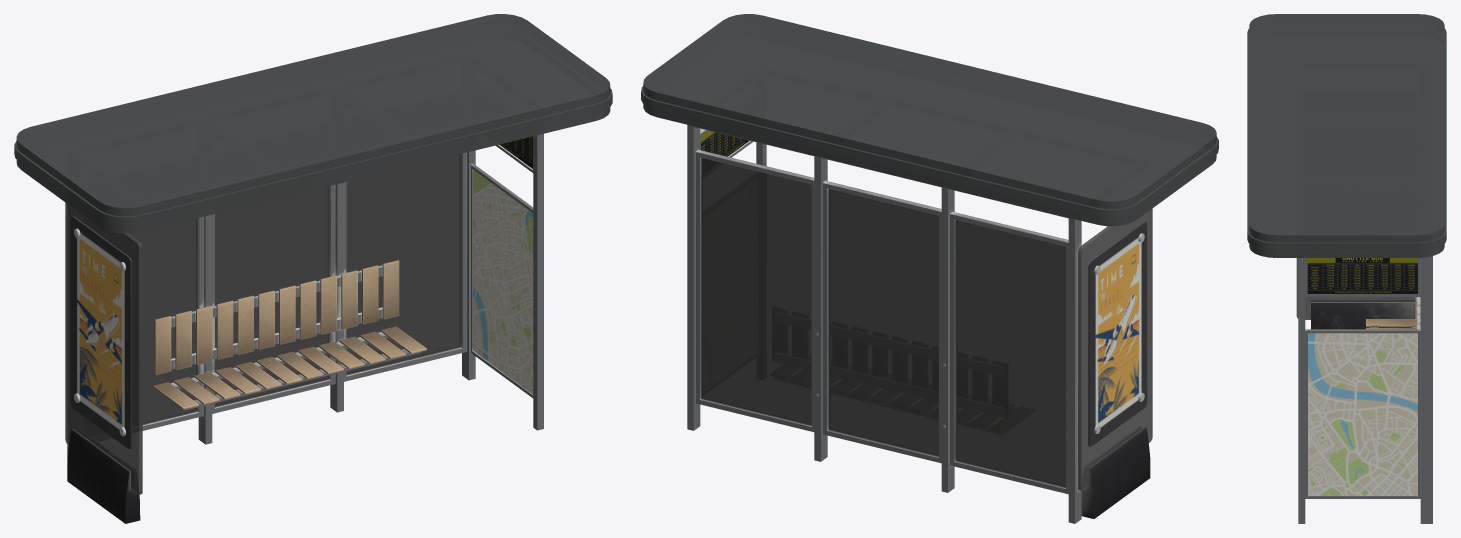
3 renders of one model, left to right at view 1: azimuth 30°, elevation 25°; view 2: azimuth 150°, elevation 25°; view 3: azimuth 270°, elevation 25°, orthographic. The views are drawn at different scales.
Parts seen in each view (by area): view 1: bus_stop; view 2: bus_stop; view 3: bus_stop.
Boxes of the visible parts, left/top/right/bottom form: bus_stop: left=14, top=14, right=612, bottom=523; bus_stop: left=641, top=14, right=1218, bottom=523; bus_stop: left=1247, top=14, right=1446, bottom=523.
Bounding box in the file's own units: 3.39 × 2.2 × 1.28.
1 material, 1 textured.
